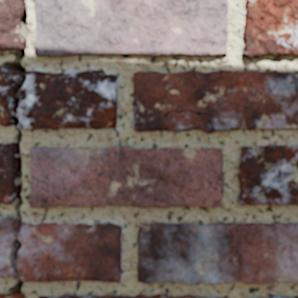brick: (30, 146, 223, 206), (35, 0, 227, 56), (134, 70, 297, 131), (138, 223, 297, 283), (238, 145, 297, 205), (243, 0, 297, 57), (0, 0, 25, 49), (0, 143, 16, 203), (40, 295, 130, 297), (133, 295, 173, 297), (0, 294, 23, 297), (271, 296, 297, 297), (178, 296, 200, 297)
broken_brick: (18, 221, 121, 283), (18, 69, 118, 130), (0, 217, 16, 278), (0, 69, 17, 126)
crack: (0, 2, 30, 295), (137, 238, 144, 245)
